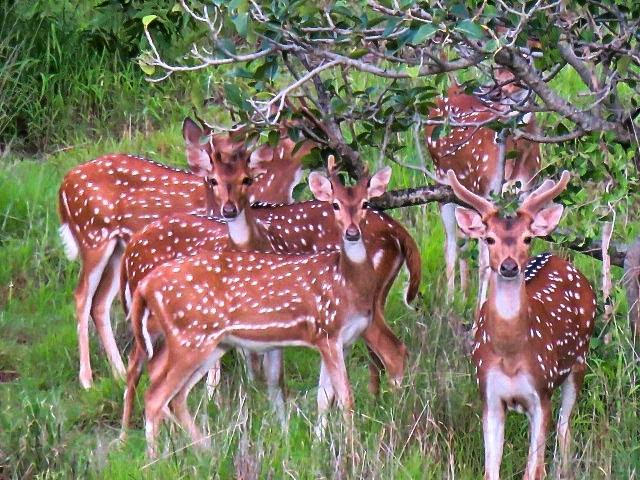Deer: (130, 156, 391, 456), (451, 173, 596, 479), (121, 135, 273, 300)
